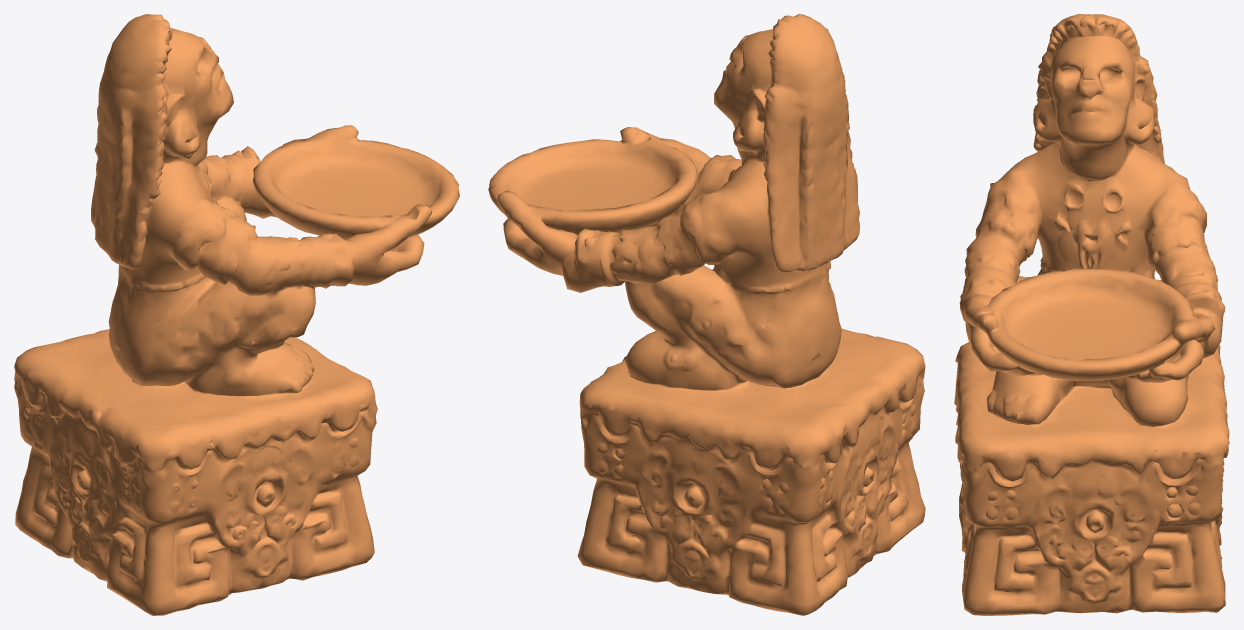
The model's file is remeshed.glb.
3 renders of one model, left to right at view 1: azimuth 30°, elevation 25°; view 2: azimuth 150°, elevation 25°; view 3: azimuth 270°, elevation 25°, orthographic.
Visible parts, largest first — view 1: pmp_remesh; view 2: pmp_remesh; view 3: pmp_remesh.
Part boxes in pixels (x1,y1,x2,y2): pmp_remesh: (14,14,459,615); pmp_remesh: (488,14,925,615); pmp_remesh: (954,14,1229,615).
Size of the model in its own units: 0.7208 by 0.9801 by 0.4625.
